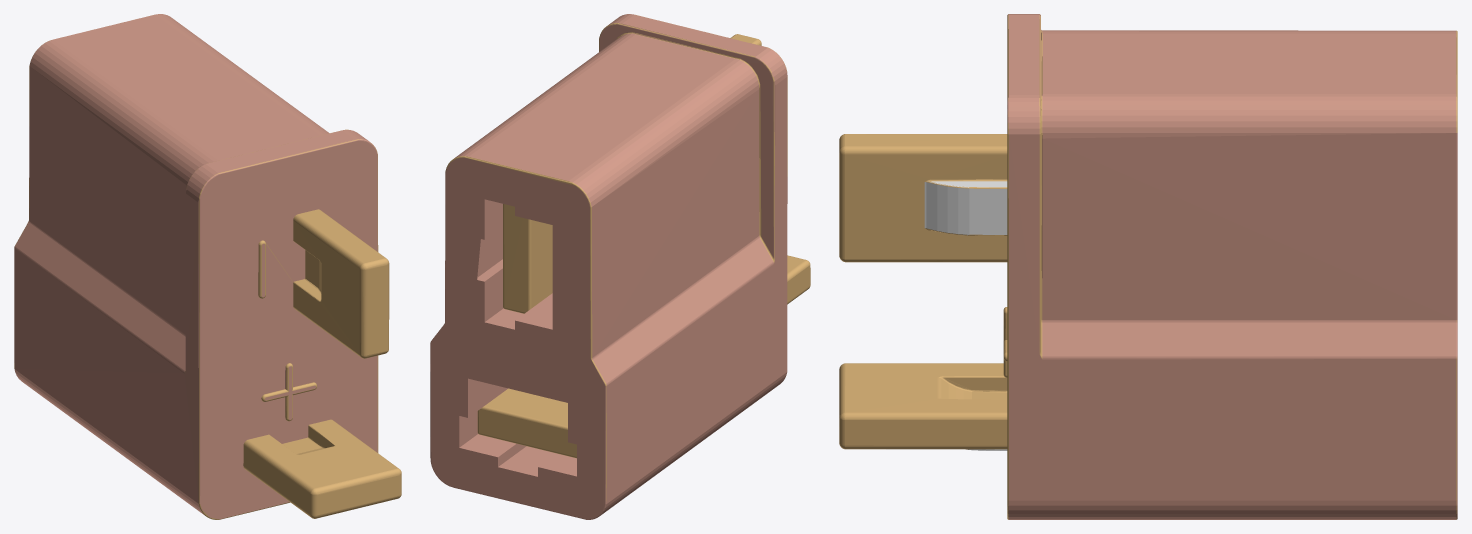
File: Deans-Female.dae
3 views of the same model, side by side, from view 1: azimuth 30°, elevation 25°; view 2: azimuth 150°, elevation 25°; view 3: azimuth 270°, elevation 25° (orthographic). The views are drawn at different scales.
Visible parts, largest first — view 1: Deans-Female; view 2: Deans-Female; view 3: Deans-Female.
Part boxes in pixels (left/top/right/bottom): Deans-Female: left=14, top=14, right=401, bottom=519; Deans-Female: left=430, top=14, right=810, bottom=519; Deans-Female: left=839, top=14, right=1457, bottom=519.
Size of the model in its own units: 7.5 by 18.4 by 13.85.
